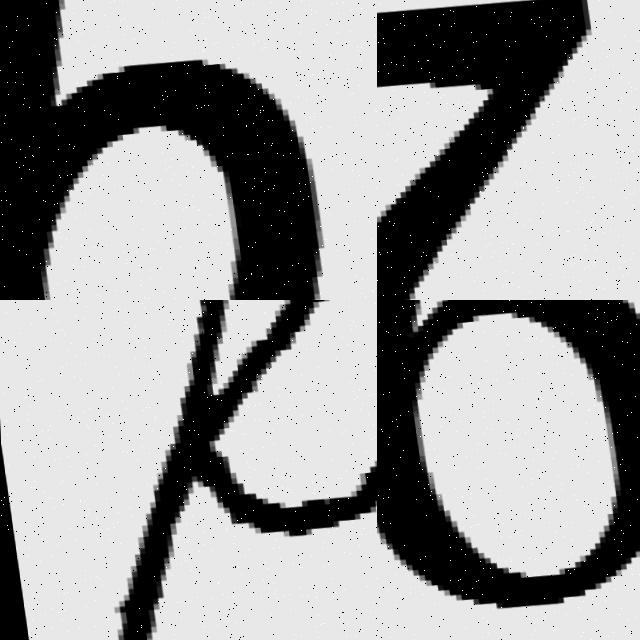2: (377, 0, 640, 300)
9: (377, 300, 640, 633)
D: (21, 300, 377, 640)
Q: (0, 0, 362, 300)
